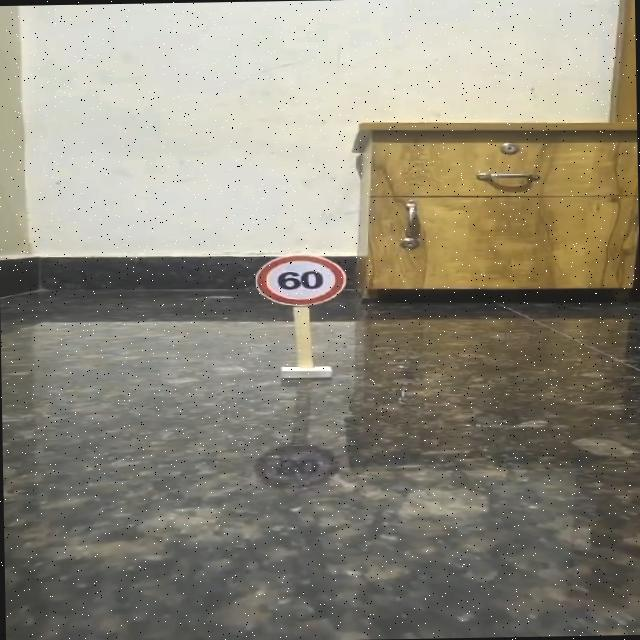Speed60: (252, 251, 348, 308)
